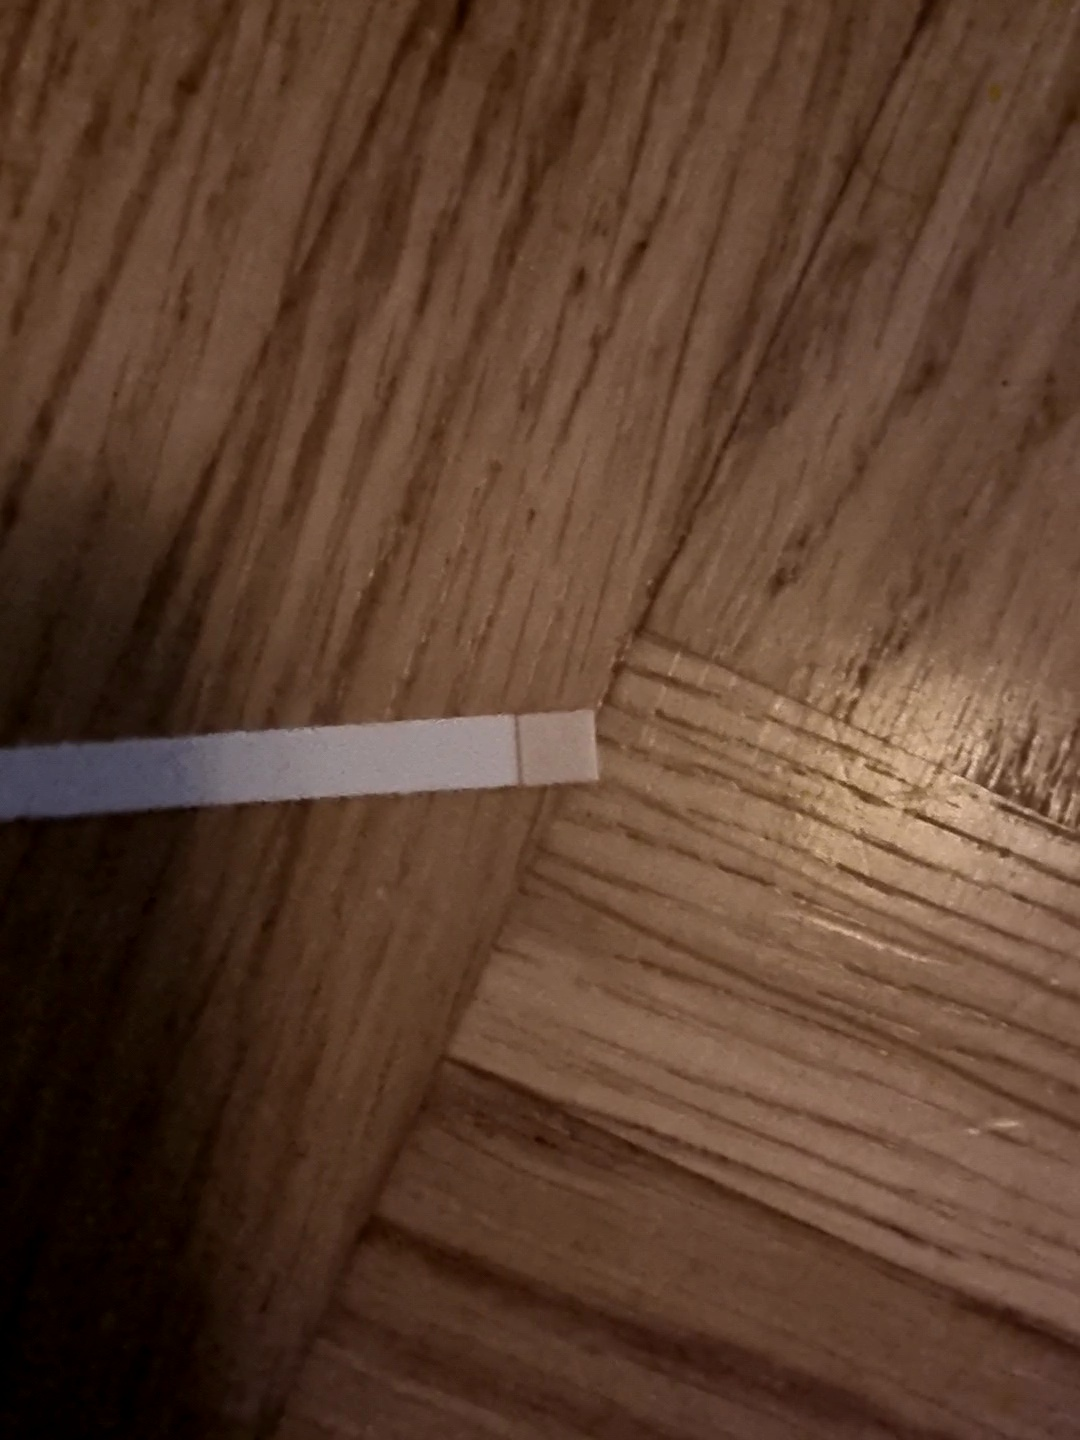keto-tip: (511, 704, 605, 789)
